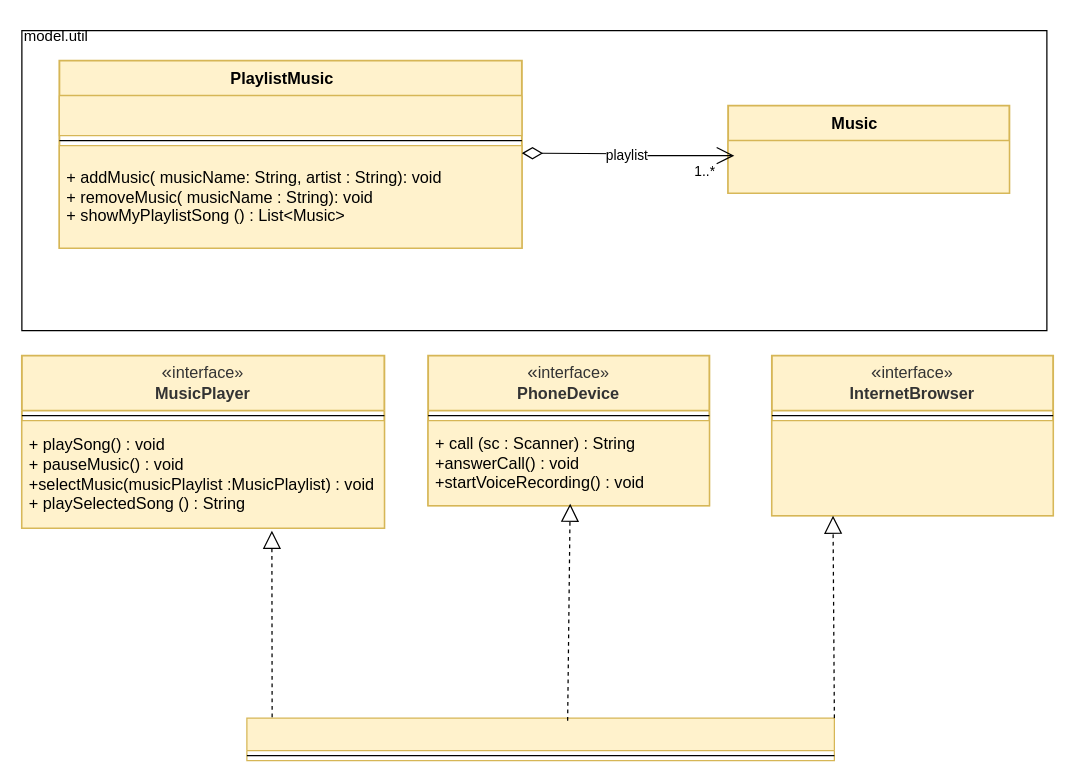
Image size: 1076x783. Some labels were removed from this diagram. The shapes that lost their labels are listed below. From the top down, each one's centre as x and y in pixels, then its label:
point (290, 115): - name: String
point (868, 166): - name: String - artist: String
point (912, 467): + displayPage () : void +addNewTab() : void +updatePage() : void
point (540, 739): Iphone
